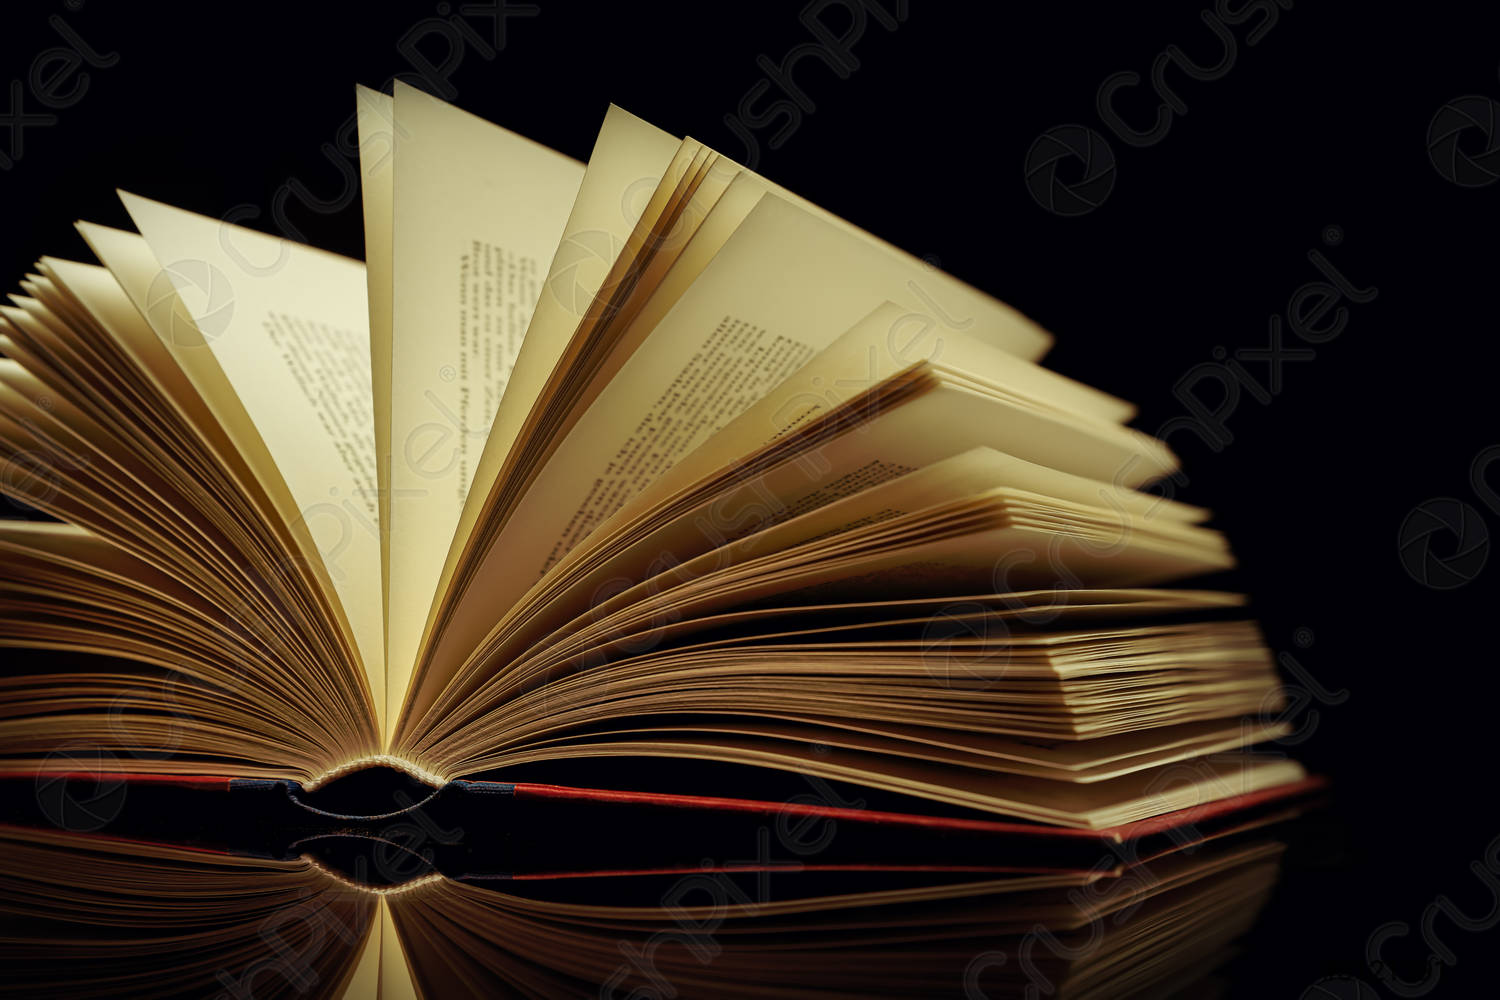Open Book: (15, 88, 1310, 877)
